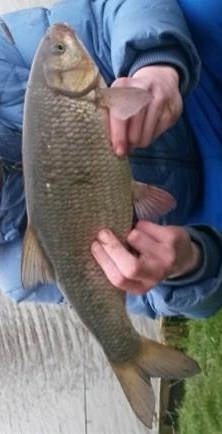Leuciscus idus: (20, 20, 202, 428)
